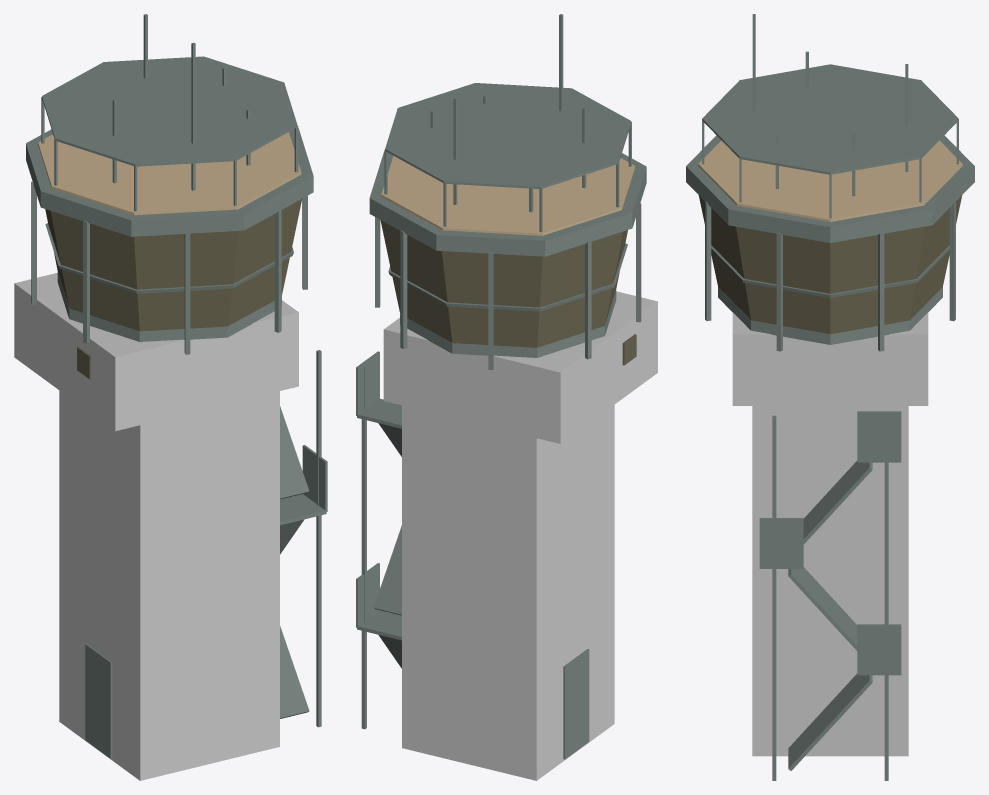
File: SM_TorreControl_v0_LOD0.fbx
3 views of the same model, side by side, from view 1: azimuth 30°, elevation 25°; view 2: azimuth 150°, elevation 25°; view 3: azimuth 270°, elevation 25° (orthographic). The views are drawn at different scales.
Parts seen in each view (by area): view 1: SM_torre_control_v0_LOD0; view 2: SM_torre_control_v0_LOD0; view 3: SM_torre_control_v0_LOD0.
Part boxes in pixels (bbox=[...]): SM_torre_control_v0_LOD0: bbox=[14, 14, 327, 780]; SM_torre_control_v0_LOD0: bbox=[356, 14, 657, 780]; SM_torre_control_v0_LOD0: bbox=[686, 14, 974, 780].
Size of the model in its own units: 5.9 by 15.81 by 5.9.
